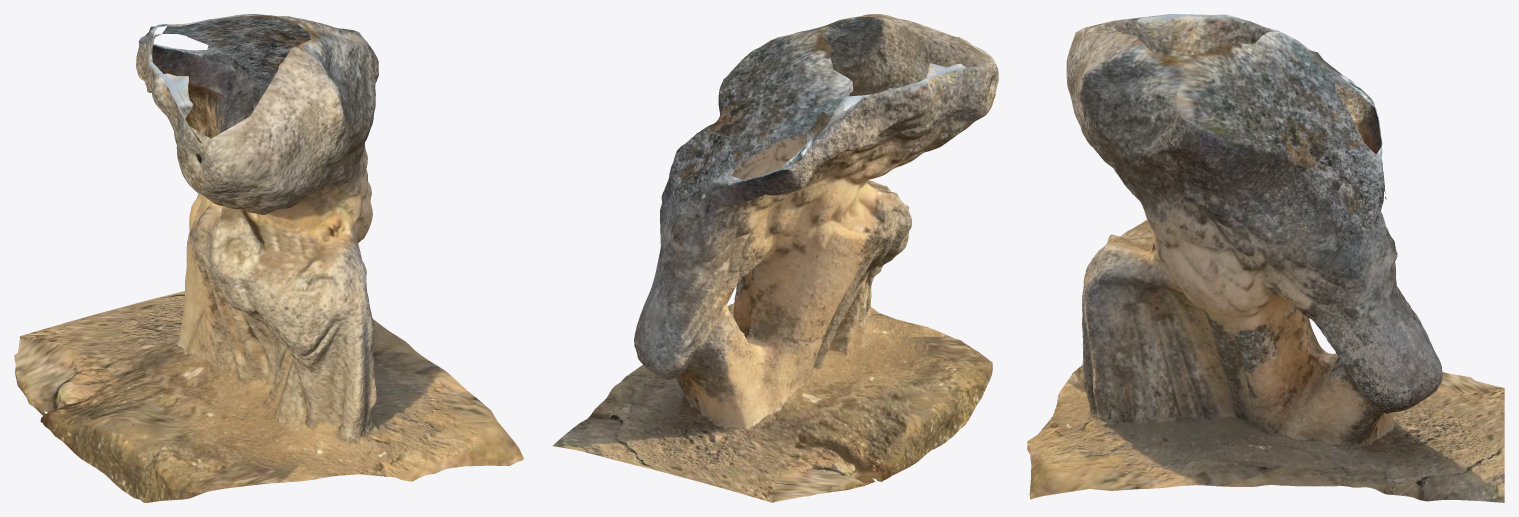
The model's file is bird-of-prey-statue-roman-villas-of-car.glb.
The picture shows the model from 3 angles, left to right: view 1: azimuth 30°, elevation 25°; view 2: azimuth 150°, elevation 25°; view 3: azimuth 270°, elevation 25°; orthographic projection. The views are drawn at different scales.
Visible parts, largest first — view 1: Object_2; view 2: Object_2; view 3: Object_2.
Boxes of the visible parts, x1,y1,x2,y2 form: Object_2: (14, 14, 523, 502); Object_2: (552, 14, 998, 502); Object_2: (1027, 14, 1504, 502).
Bounding box in the file's own units: 0.4527 × 0.603 × 0.6312.
1 material, 1 textured.
